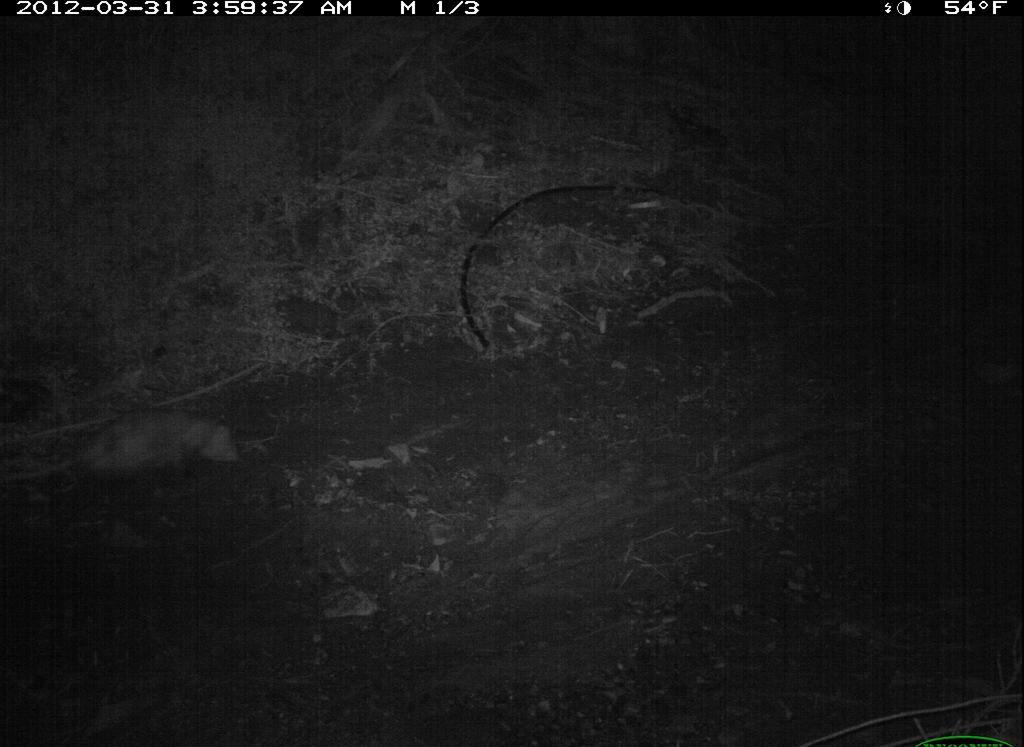opossum: (3, 401, 258, 495)
